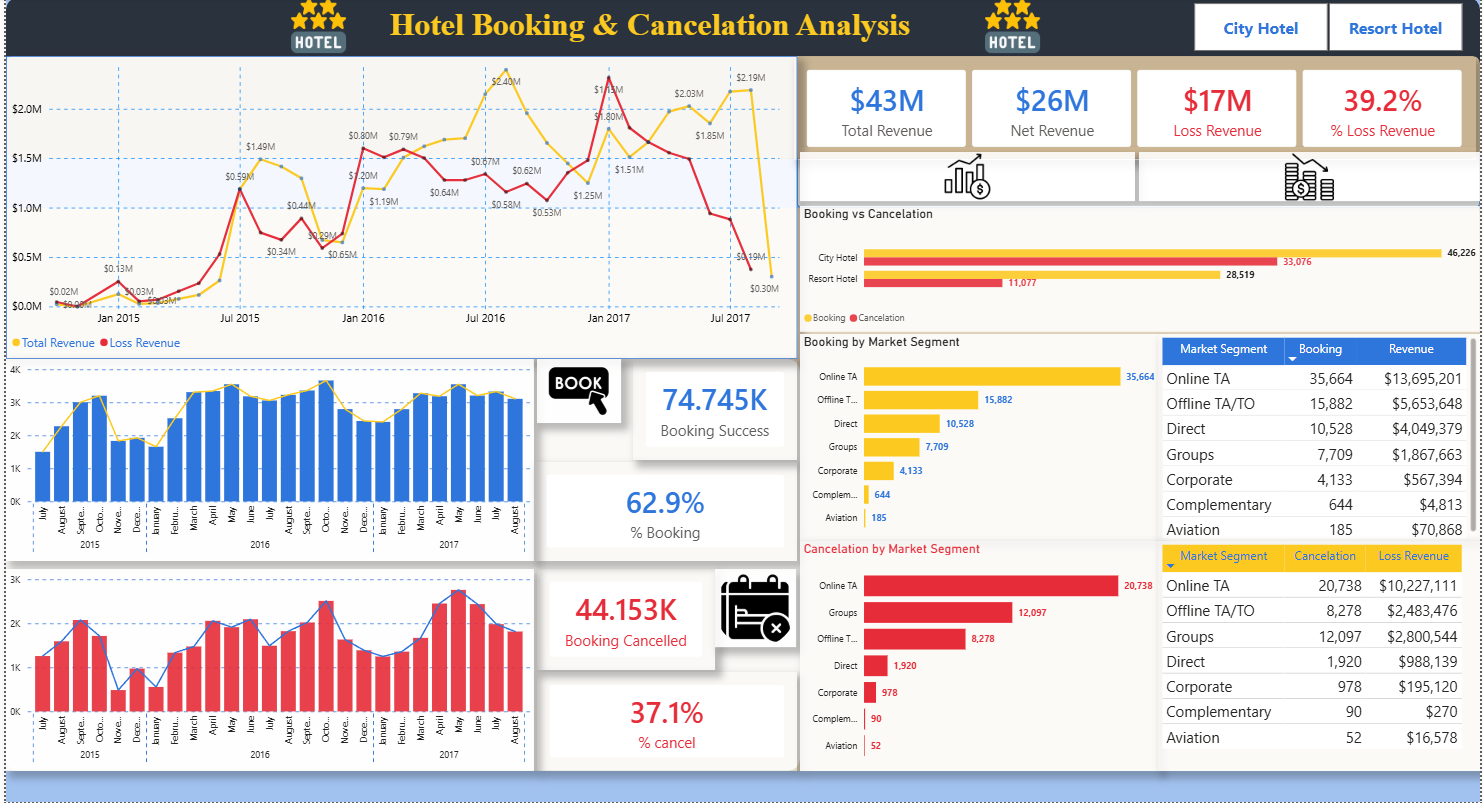

What the dashboard file says about the page in this screenshot:
{"tool":"powerbi","page":{"name":"Overview","canvas":[1980,1080],"ordinal":0},"visuals":[{"type":"shape","box":[0,282.1,1980,756.3],"z":0},{"type":"shape","box":[0,484.9,1066.6,553.4],"z":1000},{"type":"shape","box":[1062.5,198.8,917.5,83.3],"z":2000},{"type":"shape","box":[0,0,1980,216.3],"z":3000},{"type":"shape","box":[0,77.9,1980,138.4],"z":4000},{"type":"lineChart","fields":{"Category":["hotel_cleaned.reservation_status_date.Variation.Date Hierarchy.Year","hotel_cleaned.reservation_status_date.Variation.Date Hierarchy.Month"],"Y":["Measure.Total Revenue"],"Y2":["Measure.Loss Revenue"]},"box":[0,77.9,1062.5,407],"z":5000},{"type":"cardVisual","fields":{"Data":["Measure.Total Revenue","Measure.Net Revenue","Measure.Loss Revenue","Measure.% Revenue Loss"]},"box":[1058.5,79.3,916.1,138.4],"z":6000},{"type":"lineClusteredColumnComboChart","fields":{"Y":["Measure.Booking Success"],"Category":["hotel_cleaned.Arrival_Date.Variation.Date Hierarchy.Year","hotel_cleaned.Arrival_Date.Variation.Date Hierarchy.Month"],"Y2":["Measure.Booking Success"]},"box":[0,484.9,709.3,271.3],"z":7000},{"type":"textbox","box":[499.7,5.4,772.4,68.5],"z":8000},{"type":"cardVisual","fields":{"Data":["Measure.Booking Success"]},"box":[842.2,484.9,220.3,135.7],"z":9000},{"type":"cardVisual","fields":{"Data":["Measure.% Booking"]},"box":[709.3,623.3,353.3,133],"z":10000},{"type":"lineClusteredColumnComboChart","fields":{"Category":["hotel_cleaned.Arrival_Date.Variation.Date Hierarchy.Year","hotel_cleaned.Arrival_Date.Variation.Date Hierarchy.Month"],"Y":["Measure.Booking Cancelled"],"Y2":["Measure.Booking Cancelled"]},"box":[0,767,709.3,271.3],"z":11000},{"type":"cardVisual","fields":{"Data":["Measure.Booking Cancelled"]},"box":[713.3,767,239.1,135.7],"z":12000},{"type":"cardVisual","fields":{"Data":["Measure.% cancel"]},"box":[713.3,905.4,349.3,133],"z":13000},{"type":"slicer","fields":{"Values":["hotel_cleaned.hotel"]},"box":[1570.3,0,409.7,77.9],"z":14000},{"type":"image","box":[1272.1,0,159.9,73.9],"z":15000},{"type":"image","box":[713.3,484.9,112.8,86],"z":16000},{"type":"image","box":[952.4,767,108.8,104.8],"z":17000},{"type":"image","box":[1066.6,206.9,450,65.8],"z":18000},{"type":"image","box":[1521.9,206.9,458.1,65.8],"z":19000},{"type":"image","box":[339.9,0,159.9,73.9],"z":20000},{"type":"barChart","title":"Booking by Market Segment","fields":{"Category":["hotel_cleaned.market_segment"],"Y":["Measure.Booking Success"]},"box":[1066.6,451.3,480.9,278.1],"z":21000},{"type":"tableEx","fields":{"Values":["hotel_cleaned.market_segment","Measure.Booking Success","Measure.Net Revenue"]},"box":[1547.5,451.3,432.5,278.1],"z":22000},{"type":"barChart","title":"Cancelation by Market Segment","fields":{"Category":["hotel_cleaned.market_segment"],"Y":["Measure.Booking Cancelled"]},"box":[1066.6,729.4,480.9,309],"z":23000},{"type":"tableEx","fields":{"Values":["hotel_cleaned.market_segment","Measure.Booking Cancelled","Measure.Loss Revenue"]},"box":[1547.5,729.4,432.5,309],"z":24000},{"type":"clusteredBarChart","title":"Booking vs Cancelation","fields":{"Category":["hotel_cleaned.hotel"],"Y":["Measure.Booking Success","Measure.Booking Cancelled"]},"box":[1066.6,279.4,913.4,169.3],"z":25000}]}

Visuals, with their boxes in screenshot pixels (x1, y1, x2, y2), scaled from the page's 1980x1080 canvas onto the 1483x803 screenshot:
shape: 0/210/1482/772
shape: 0/361/799/772
shape: 796/148/1482/210
shape: 0/0/1482/161
shape: 0/58/1482/161
lineChart - hotel_cleaned.reservation_status_date.Variation.Date Hierarchy.Year x hotel_cleaned.reservation_status_date.Variation.Date Hierarchy.Month: 0/58/796/361
cardVisual - Measure.Total Revenue x Measure.Net Revenue: 793/59/1479/162
lineClusteredColumnComboChart - Measure.Booking Success x hotel_cleaned.Arrival_Date.Variation.Date Hierarchy.Year: 0/361/531/562
textbox: 374/4/953/55
cardVisual - Measure.Booking Success: 631/361/796/461
cardVisual - Measure.% Booking: 531/463/796/562
lineClusteredColumnComboChart - hotel_cleaned.Arrival_Date.Variation.Date Hierarchy.Year x hotel_cleaned.Arrival_Date.Variation.Date Hierarchy.Month: 0/570/531/772
cardVisual - Measure.Booking Cancelled: 534/570/713/671
cardVisual - Measure.% cancel: 534/673/796/772
slicer - hotel_cleaned.hotel: 1176/0/1482/58
image: 953/0/1073/55
image: 534/361/619/424
image: 713/570/795/648
image: 799/154/1136/203
image: 1140/154/1482/203
image: 255/0/374/55
"Booking by Market Segment" barChart: 799/336/1159/542
tableEx - hotel_cleaned.market_segment x Measure.Booking Success: 1159/336/1482/542
"Cancelation by Market Segment" barChart: 799/542/1159/772
tableEx - hotel_cleaned.market_segment x Measure.Booking Cancelled: 1159/542/1482/772
"Booking vs Cancelation" clusteredBarChart: 799/208/1482/334
